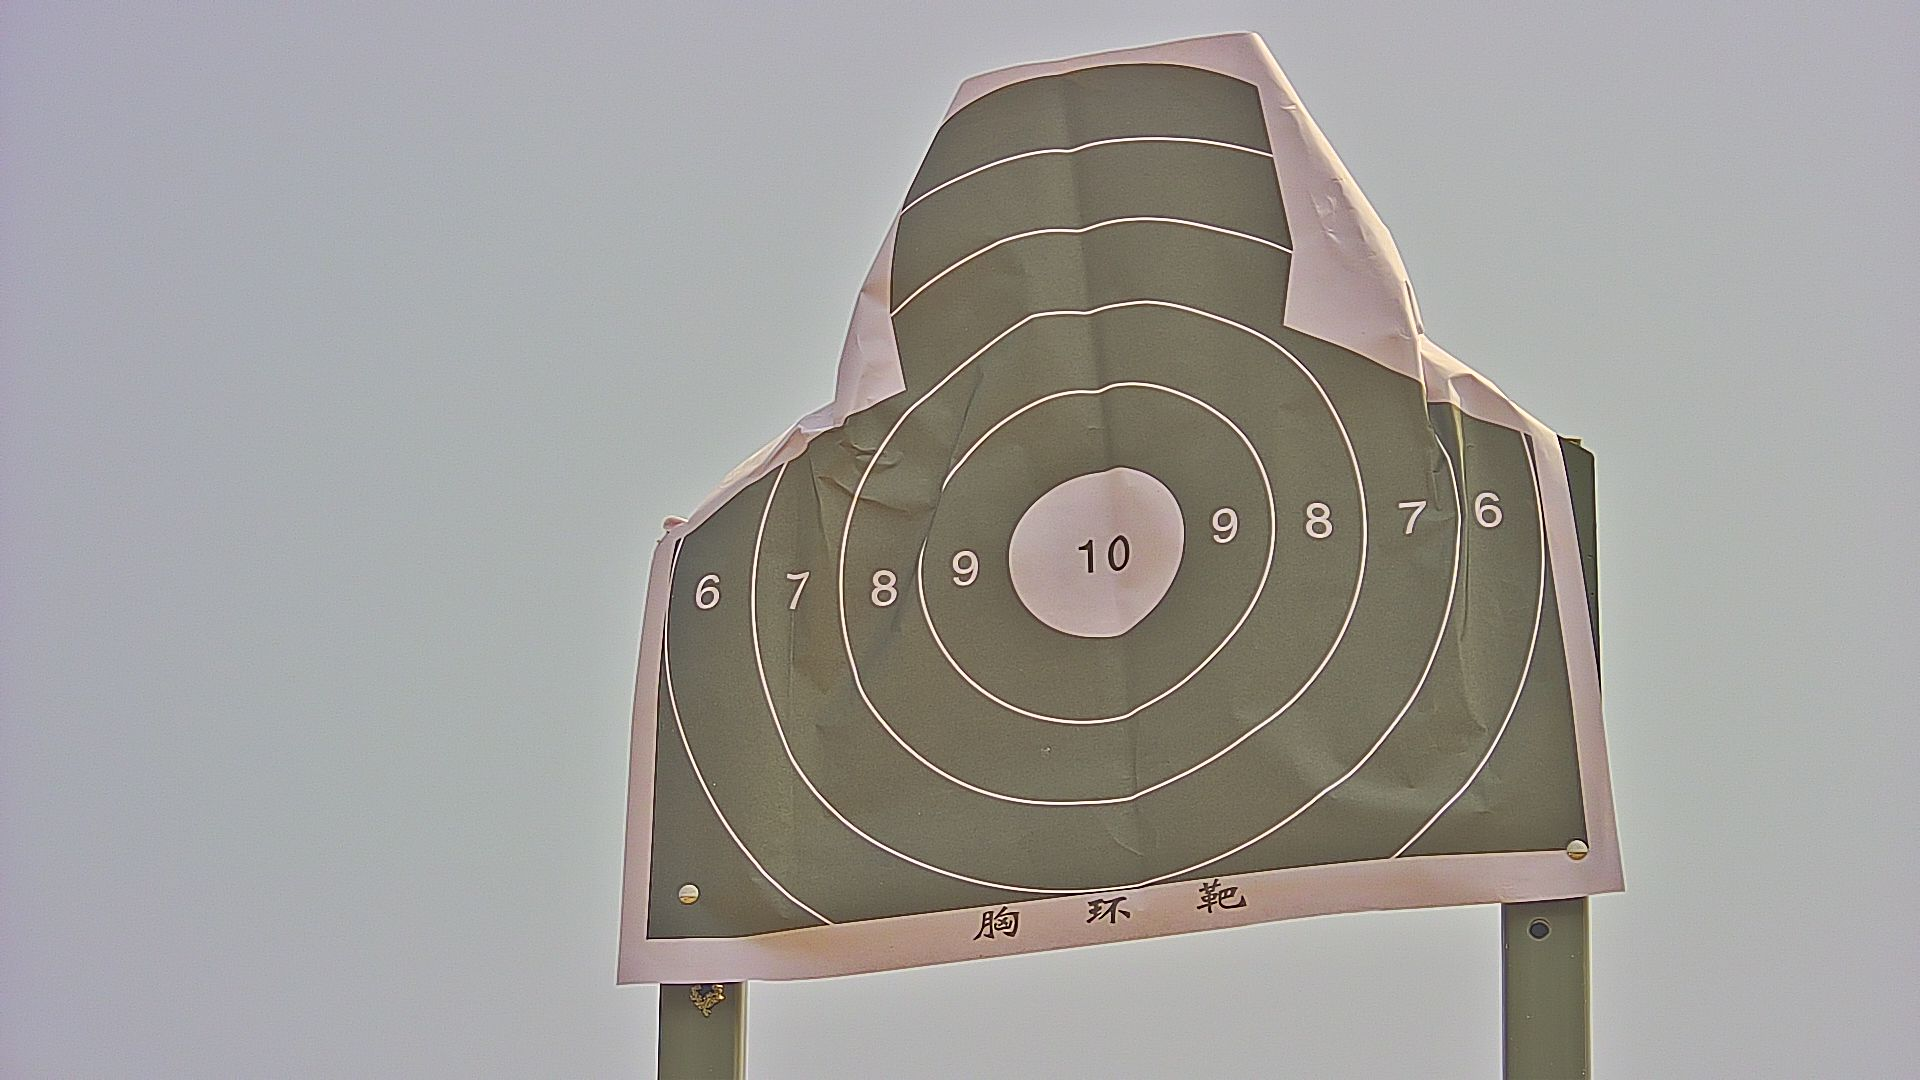kernel: (1102, 553, 1104, 556)
target: (644, 69, 1590, 948)
ten: (1004, 467, 1184, 640)
